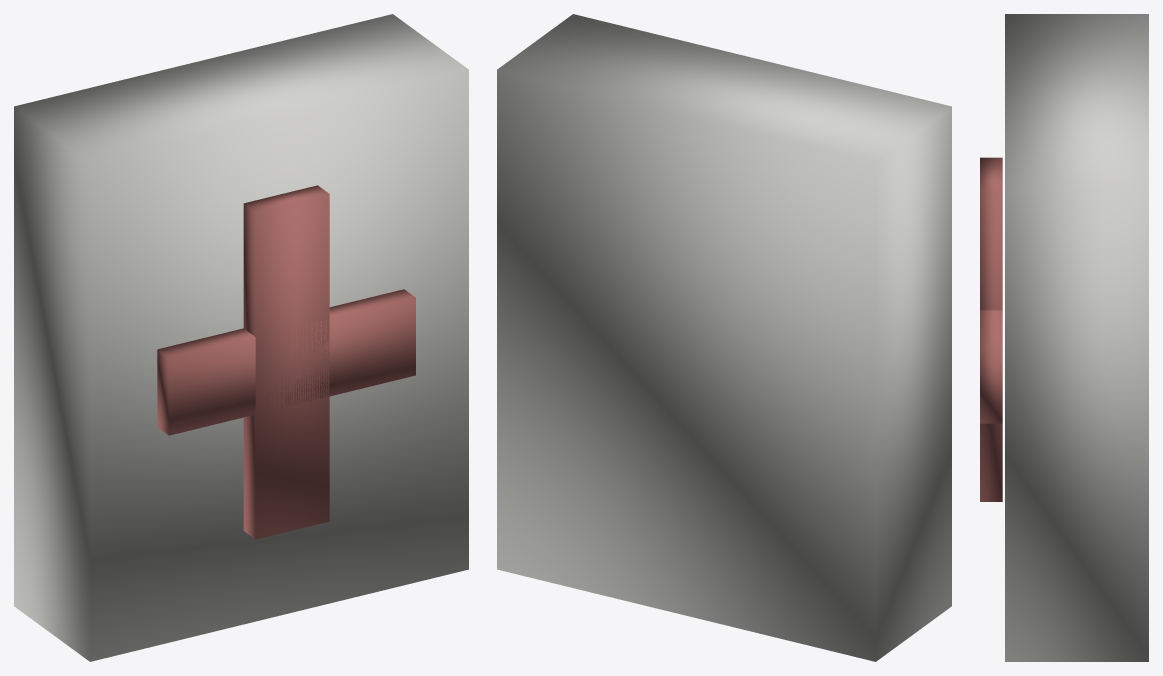
The model's file is first_aid_wall_cabinet.glb.
3 renders of one model, left to right at view 1: azimuth 30°, elevation 25°; view 2: azimuth 150°, elevation 25°; view 3: azimuth 270°, elevation 25°, orthographic. The views are drawn at different scales.
Parts seen in each view (by area): view 1: world; view 2: world; view 3: world.
Part boxes in pixels (left/top/right/bottom): world: left=14, top=14, right=468, bottom=661; world: left=497, top=14, right=951, bottom=661; world: left=980, top=14, right=1148, bottom=661.
Size of the model in its own units: 0.46 by 0.58 by 0.1875.
